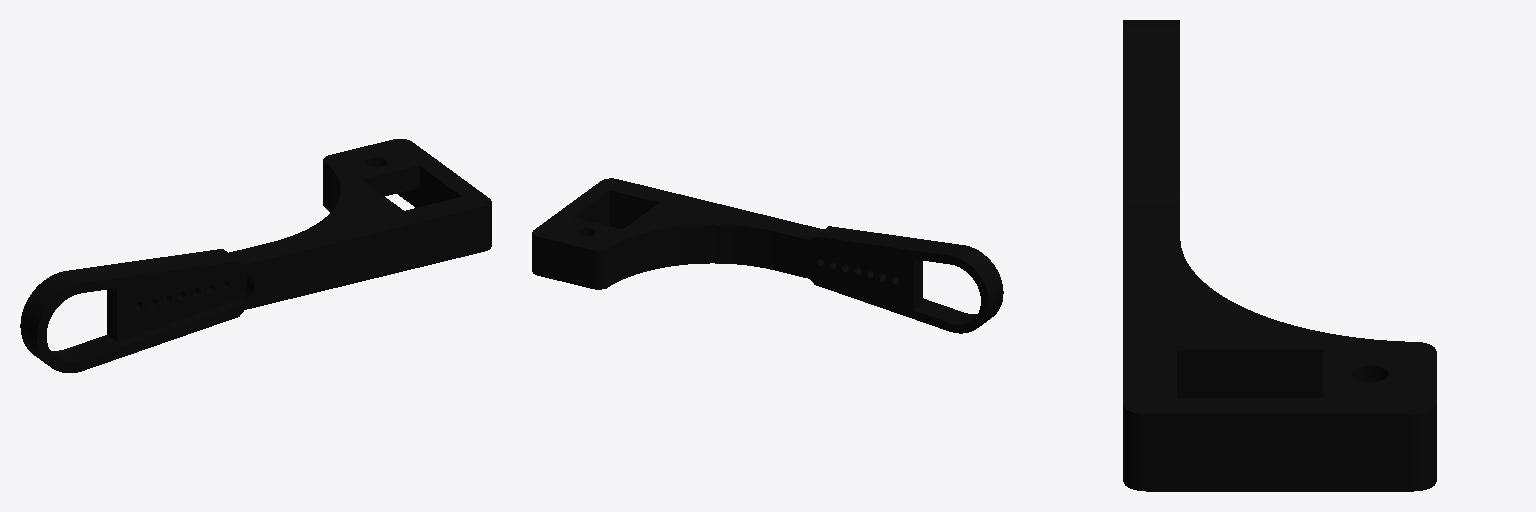
URDF robot description (burger_gripper):
<?xml version="1.0" encoding="utf-8" ?>
<robot name="burger_gripper">
    <!-- Init colour -->
    <material name="black">
        <color rgba="0.0 0.0 0.0 1.0" />
    </material>
    <material name="dark">
        <color rgba="0.3 0.3 0.3 1.0" />
    </material>
    <material name="light_black">
        <color rgba="0.4 0.4 0.4 1.0" />
    </material>
    <material name="blue">
        <color rgba="0.0 0.0 0.8 1.0" />
    </material>
    <material name="green">
        <color rgba="0.0 0.8 0.0 1.0" />
    </material>
    <material name="grey">
        <color rgba="0.5 0.5 0.5 1.0" />
    </material>
    <material name="orange">
        <color rgba="1.0 0.423529411765 0.0392156862745 1.0" />
    </material>
    <material name="brown">
        <color rgba="0.870588235294 0.811764705882 0.764705882353 1.0" />
    </material>
    <material name="red">
        <color rgba="0.8 0.0 0.0 1.0" />
    </material>
    <material name="white">
        <color rgba="1.0 1.0 1.0 1.0" />
    </material>
    <gazebo reference="base_link">
        <material>Gazebo/DarkGrey</material>
    </gazebo>
    <gazebo reference="wheel_left_link">
        <mu1>0.1</mu1>
        <mu2>0.1</mu2>
        <kp>500000.0</kp>
        <kd>10.0</kd>
        <minDepth>0.001</minDepth>
        <maxVel>0.1</maxVel>
        <fdir1>1 0 0</fdir1>
        <material>Gazebo/FlatBlack</material>
    </gazebo>
    <gazebo reference="wheel_right_link">
        <mu1>0.1</mu1>
        <mu2>0.1</mu2>
        <kp>500000.0</kp>
        <kd>10.0</kd>
        <minDepth>0.001</minDepth>
        <maxVel>0.1</maxVel>
        <fdir1>1 0 0</fdir1>
        <material>Gazebo/FlatBlack</material>
    </gazebo>
    <gazebo reference="caster_back_link">
        <mu1>0.1</mu1>
        <mu2>0.1</mu2>
        <kp>1000000.0</kp>
        <kd>100.0</kd>
        <minDepth>0.001</minDepth>
        <maxVel>1.0</maxVel>
        <material>Gazebo/FlatBlack</material>
    </gazebo>
    <gazebo reference="imu_link">
        <sensor name="imu" type="imu">
            <always_on>true</always_on>
            <visualize>false</visualize>
        </sensor>
        <material>Gazebo/FlatBlack</material>
    </gazebo>
    <gazebo>
        <plugin filename="libgazebo_ros_diff_drive.so" name="turtlebot3_burger_controller">
            <commandTopic>cmd_vel</commandTopic>
            <odometryTopic>odom</odometryTopic>
            <odometryFrame>odom</odometryFrame>
            <odometrySource>world</odometrySource>
            <publishOdomTF>true</publishOdomTF>
            <robotBaseFrame>base_footprint</robotBaseFrame>
            <publishWheelTF>false</publishWheelTF>
            <publishTf>true</publishTf>
            <publishWheelJointState>true</publishWheelJointState>
            <legacyMode>false</legacyMode>
            <updateRate>30</updateRate>
            <leftJoint>wheel_left_joint</leftJoint>
            <rightJoint>wheel_right_joint</rightJoint>
            <wheelSeparation>0.160</wheelSeparation>
            <wheelDiameter>0.066</wheelDiameter>
            <wheelAcceleration>1</wheelAcceleration>
            <wheelTorque>10</wheelTorque>
            <rosDebugLevel>na</rosDebugLevel>
        </plugin>
    </gazebo>
    <gazebo>
        <plugin filename="libgazebo_ros_imu.so" name="imu_plugin">
            <alwaysOn>true</alwaysOn>
            <bodyName>imu_link</bodyName>
            <topicName>imu</topicName>
            <serviceName>imu_service</serviceName>
            <gaussianNoise>0.0</gaussianNoise>
            <updateRate>200</updateRate>
            <imu>
                <noise>
                    <type>gaussian</type>
                    <rate>
                        <mean>0.0</mean>
                        <stddev>2e-4</stddev>
                        <bias_mean>0.0000075</bias_mean>
                        <bias_stddev>0.0000008</bias_stddev>
                    </rate>
                    <accel>
                        <mean>0.0</mean>
                        <stddev>1.7e-2</stddev>
                        <bias_mean>0.1</bias_mean>
                        <bias_stddev>0.001</bias_stddev>
                    </accel>
                </noise>
            </imu>
        </plugin>
    </gazebo>
    <gazebo reference="base_scan">
        <material>Gazebo/FlatBlack</material>
        <sensor name="lds_lfcd_sensor" type="ray">
            <pose>0 0 0 0 0 0</pose>
            <visualize>false</visualize>
            <update_rate>5</update_rate>
            <ray>
                <scan>
                    <horizontal>
                        <samples>360</samples>
                        <resolution>1</resolution>
                        <min_angle>0.0</min_angle>
                        <max_angle>6.28319</max_angle>
                    </horizontal>
                </scan>
                <range>
                    <min>0.120</min>
                    <max>3.5</max>
                    <resolution>0.015</resolution>
                </range>
                <noise>
                    <type>gaussian</type>
                    <mean>0.0</mean>
                    <stddev>0.01</stddev>
                </noise>
            </ray>
            <plugin filename="libgazebo_ros_laser.so" name="gazebo_ros_lds_lfcd_controller">
                <topicName>scan</topicName>
                <frameName>base_scan</frameName>
            </plugin>
        </sensor>
    </gazebo>
    <!--bumper turtlebot3 insper-->
    <gazebo reference="bumper_link">
        <sensor name="contacts" type="contact">
            <contact>
                <collision>base_footprint_fixed_joint_lump__base_collision_collision_1</collision>
            </contact>
            <plugin filename="libgazebo_ros_bumper.so" name="gazebo_ros_bumper_controller">
                <always_on>true</always_on>
                <robotNamespace>/bumper</robotNamespace>
                <bumperTopicName>bumper_states</bumperTopicName>
                <frameName>bumper</frameName>
                <visualize>true</visualize>
                <update_rate>50.0</update_rate>
            </plugin>
        </sensor>
        <material>Gazebo/Green</material>
        <mu1>0.1</mu1>
        <mu2>0.1</mu2>
        <gravity>true</gravity>
        <selfCollide>false</selfCollide>
    </gazebo>
    <!--camera turtlebot3 insper-->
    <!--link : https://www.raspberrypi.org/documentation/hardware/camera/-->
    <gazebo reference="camera_rgb_frame">
        <sensor name="Pi Camera" type="camera">
            <always_on>true</always_on>
            <visualize>false</visualize>
            <camera>
                <horizontal_fov>1.085595</horizontal_fov>
                <image>
                    <width>320</width>
                    <height>240</height>
                    <format>R8G8B8</format>
                </image>
                <clip>
                    <near>0.03</near>
                    <far>100</far>
                </clip>
            </camera>
            <plugin filename="libgazebo_ros_camera.so" name="camera_controller">
                <alwaysOn>true</alwaysOn>
                <updateRate>30.0</updateRate>
                <cameraName>camera</cameraName>
                <frameName>camera_rgb_optical_frame</frameName>
                <imageTopicName>image</imageTopicName>
                <cameraInfoTopicName>camera_info</cameraInfoTopicName>
                <hackBaseline>0.07</hackBaseline>
                <distortionK1>0.0</distortionK1>
                <distortionK2>0.0</distortionK2>
                <distortionK3>0.0</distortionK3>
                <distortionT1>0.0</distortionT1>
                <distortionT2>0.0</distortionT2>
            </plugin>
        </sensor>
    </gazebo>
    <link name="base_footprint" />
    <joint name="base_joint" type="fixed">
        <parent link="base_footprint" />
        <child link="base_link" />
        <origin rpy="0 0 0" xyz="0.0 0.0 0.010" />
    </joint>
    <link name="base_link">
        <visual>
            <origin rpy="0 0 0" xyz="-0.032 0 0.0" />
            <geometry>
                <mesh filename="package://burger_gripper/meshes/bases/burger_base.stl" scale="0.001 0.001 0.001" />
            </geometry>
            <material name="light_black" />
        </visual>
        <collision>
            <origin rpy="0 0 0" xyz="-0.032 0 0.070" />
            <geometry>
                <box size="0.140 0.140 0.143" />
            </geometry>
        </collision>
        
<inertial>
            <origin rpy="0 0 0" xyz="0 0 0" />
            <mass value="8.2573504e-01" />
            <inertia ixx="2.2124416e-03" ixy="-1.2294101e-05" ixz="3.4938785e-05" iyy="2.1193702e-03" iyz="-5.0120904e-06" izz="2.0064271e-03" />
        </inertial>

    </link>
    <joint name="wheel_left_joint" type="continuous">
        <parent link="base_link" />
        <child link="wheel_left_link" />
        <origin rpy="-1.57 0 0" xyz="0.0 0.08 0.023" />
        <axis xyz="0 0 1" />
    </joint>
    <link name="wheel_left_link">
        <visual>
            <origin rpy="1.57 0 0" xyz="0 0 0" />
            <geometry>
                <mesh filename="package://burger_gripper/meshes/wheels/left_tire.stl" scale="0.001 0.001 0.001" />
            </geometry>
            <material name="dark" />
        </visual>
        <collision>
            <origin rpy="0 0 0" xyz="0 0 0" />
            <geometry>
                <cylinder length="0.018" radius="0.033" />
            </geometry>
        </collision>
        
<inertial>
            <origin xyz="0 0 0" />
            <mass value="2.8498940e-02" />
            <inertia ixx="1.1175580e-05" ixy="-4.2369783e-11" ixz="-5.9381719e-09" iyy="1.1192413e-05" iyz="-1.4400107e-11" izz="2.0712558e-05" />
        </inertial>

    </link>
    <joint name="wheel_right_joint" type="continuous">
        <parent link="base_link" />
        <child link="wheel_right_link" />
        <origin rpy="-1.57 0 0" xyz="0.0 -0.080 0.023" />
        <axis xyz="0 0 1" />
    </joint>
    <link name="wheel_right_link">
        <visual>
            <origin rpy="1.57 0 0" xyz="0 0 0" />
            <geometry>
                <mesh filename="package://burger_gripper/meshes/wheels/right_tire.stl" scale="0.001 0.001 0.001" />
            </geometry>
            <material name="dark" />
        </visual>
        <collision>
            <origin rpy="0 0 0" xyz="0 0 0" />
            <geometry>
                <cylinder length="0.018" radius="0.033" />
            </geometry>
        </collision>
        
<inertial>
            <origin xyz="0 0 0" />
            <mass value="2.8498940e-02" />
            <inertia ixx="1.1175580e-05" ixy="-4.2369783e-11" ixz="-5.9381719e-09" iyy="1.1192413e-05" iyz="-1.4400107e-11" izz="2.0712558e-05" />
        </inertial>

    </link>
    <joint name="caster_back_joint" type="fixed">
        <parent link="base_link" />
        <child link="caster_back_link" />
        <origin rpy="-1.57 0 0" xyz="-0.081 0 -0.004" />
    </joint>
    <link name="caster_back_link">
        <collision>
            <origin rpy="0 0 0" xyz="0 0.001 0" />
            <geometry>
                <box size="0.030 0.009 0.020" />
            </geometry>
        </collision>
        
<inertial>
            <origin xyz="0 0 0" />
            <mass value="0.005" />
            <inertia ixx="0.001" ixy="0.0" ixz="0.0" iyy="0.001" iyz="0.0" izz="0.001" />
        </inertial>

    </link>
    <joint name="imu_joint" type="fixed">
        <parent link="base_link" />
        <child link="imu_link" />
        <origin rpy="0 0 0" xyz="-0.032 0 0.068" />
    </joint>
    <link name="imu_link" />
    <joint name="scan_joint" type="fixed">
        <parent link="base_link" />
        <child link="base_scan" />
        <origin rpy="0 0 0" xyz="-0.032 0 0.172" />
    </joint>
    <link name="base_scan">
        <visual>
            <origin rpy="0 0 0" xyz="0 0 0.0" />
            <geometry>
                <mesh filename="package://burger_gripper/meshes/sensors/lds.stl" scale="0.001 0.001 0.001" />
            </geometry>
            <material name="dark" />
        </visual>
        <collision>
            <origin rpy="0 0 0" xyz="0.015 0 -0.0065" />
            <geometry>
                <cylinder length="0.0315" radius="0.055" />
            </geometry>
        </collision>
        
<inertial>
            <mass value="0.114" />
            <origin xyz="0 0 0" />
            <inertia ixx="0.001" ixy="0.0" ixz="0.0" iyy="0.001" iyz="0.0" izz="0.001" />
        </inertial>

    </link>
    <joint name="camera_joint" type="fixed">
        <origin rpy="0 0.174 0" xyz="0.040 -0.011 0.130" />
        <parent link="base_link" />
        <child link="camera_link" />
    </joint>
    <link name="camera_link">
        <collision>
            <origin rpy="0 0 0" xyz="0.005 0.011 0.013" />
            <geometry>
                <box size="0.015 0.030 0.027" />
            </geometry>
        </collision>
        
<inertial>
            <mass value="0.1" />
            <inertia ixx="0.03" iyy="0.03" izz="0.03" ixy="0.0" ixz="0.0" iyz="0.0" />
        </inertial>

    </link>
    <joint name="camera_rgb_joint" type="fixed">
        <origin rpy="0 0 0" xyz="0.003 0.011 0.009" />
        <parent link="camera_link" />
        <child link="camera_rgb_frame" />
    </joint>
    <link name="camera_rgb_frame" />
    <joint name="camera_rgb_optical_joint" type="fixed">
        <origin rpy="-1.57 0 -1.57" xyz="0 0 0" />
        <parent link="camera_rgb_frame" />
        <child link="camera_rgb_optical_frame" />
    </joint>
    <link name="camera_rgb_optical_frame" />
    <joint name="gripper_extension" type="revolute">
        <axis xyz="0 1 0" />
        <limit effort="1000.0" lower="-1" upper="1" velocity="0.5" />
        <parent link="base_link" />
        <child link="gripper_pole" />
        <limit effort="1000.0" lower="-0.38" upper="0" velocity="0.5" />
        <origin rpy="0 0 0 " xyz="0 0 0" />
    </joint>
    <link name="gripper_pole">
        <visual>
            <geometry>
                <mesh filename="package://burger_gripper/meshes/sensors/arm.dae" />
            </geometry>
            <origin rpy="0 0 0 " xyz="0 0 0" />
        </visual>
        <collision>
            <geometry>
                <cylinder length="0.01" radius="0.01" />
            </geometry>
            <origin rpy="0 0 0 " xyz="0.09 0 0" />
        </collision>
        
<inertial>
            <mass value="0.00125" />
            <inertia ixx="1.0" ixy="0.0" ixz="0.0" iyy="1.0" iyz="0.0" izz="1.0" />
        </inertial>

    </link>
    <transmission name="gripper_extension_trans" type="SimpleTransmission">
        <type>transmission_interface/SimpleTransmission</type>
        <actuator name="gripper_extension_motor">
            <mechanicalReduction>1</mechanicalReduction>
        </actuator>
        <joint name="gripper_extension">
            <hardwareInterface>hardwareInterface/PositionJointInterface</hardwareInterface>
        </joint>
    </transmission>
    <joint name="left_gripper_joint" type="revolute">
        <axis xyz="0 0 1" />
        <limit effort="1000.0" lower="0.0" upper="0.548" velocity="0.5" />
        <origin rpy="0 0 0 " xyz="0 0 0" />
        <parent link="gripper_pole" />
        <child link="left_gripper" />
    </joint>
    <link name="left_gripper">
        <visual>
            <origin rpy="0 0 0" xyz="0 0 0" />
            <geometry>
                <mesh filename="package://burger_gripper/meshes/sensors/esquerda.dae" />
            </geometry>
        </visual>
        <collision>
            <geometry>
                <mesh filename="package://burger_gripper/meshes/sensors/esquerda.dae" />
            </geometry>
            <origin rpy="0 0 0 " xyz="0 0 0" />
        </collision>
        
<inertial>
            <mass value="0.000625" />
            <inertia ixx="1.0" ixy="0.0" ixz="0.0" iyy="1.0" iyz="0.0" izz="1.0" />
        </inertial>

    </link>
    <transmission name="left_gripper_trans">
        <type>transmission_interface/SimpleTransmission</type>
        <actuator name="left_gripper_motor">
            <mechanicalReduction>1</mechanicalReduction>
        </actuator>
        <joint name="left_gripper_joint">
            <hardwareInterface>hardwareInterface/PositionJointInterface</hardwareInterface>
        </joint>
    </transmission>
    <joint name="right_gripper_joint" type="revolute">
        <axis xyz="0 0 -1" />
        <limit effort="1000.0" lower="0.0" upper="0.548" velocity="0.5" />
        <origin rpy="0 0 0 " xyz="0 0 0" />
        <parent link="gripper_pole" />
        <child link="right_gripper" />
    </joint>
    <link name="right_gripper">
        <visual>
            <origin rpy="0 0 0 " xyz="0 0 0" />
            <geometry>
                <mesh filename="package://burger_gripper/meshes/sensors/direita.dae" />
            </geometry>
        </visual>
        <collision>
            <geometry>
                <mesh filename="package://burger_gripper/meshes/sensors/direita.dae" />
            </geometry>
            <origin rpy="0 0 0 " xyz="0 0 0" />
        </collision>
        
<inertial>
            <mass value="0.000625" />
            <inertia ixx="1.0" ixy="0.0" ixz="0.0" iyy="1.0" iyz="0.0" izz="1.0" />
        </inertial>

    </link>
    <transmission name="right_gripper_trans">
        <type>transmission_interface/SimpleTransmission</type>
        <actuator name="right_gripper_motor">
            <mechanicalReduction>1</mechanicalReduction>
        </actuator>
        <joint name="right_gripper_joint">
            <hardwareInterface>hardwareInterface/PositionJointInterface</hardwareInterface>
        </joint>
    </transmission>
    <gazebo>
        <plugin filename="libgazebo_ros_control.so" name="gazebo_ros_control">
            <robotNamespace>/</robotNamespace>
        </plugin>
    </gazebo>
    <transmission name="trans_wheel_left_joint">
        <type>transmission_interface/SimpleTransmission</type>
        <joint name="wheel_left_joint">
            <hardwareInterface>hardware_interface/EffortJointInterface</hardwareInterface>
        </joint>
        <actuator name="wheel_left_joint_motor">
            <hardwareInterface>hardware_interface/EffortJointInterface</hardwareInterface>
            <mechanicalReduction>1</mechanicalReduction>
        </actuator>
    </transmission>
    <transmission name="trans_wheel_right_joint">
        <type>transmission_interface/SimpleTransmission</type>
        <joint name="wheel_right_joint">
            <hardwareInterface>hardware_interface/EffortJointInterface</hardwareInterface>
        </joint>
        <actuator name="wheel_right_joint_motor">
            <hardwareInterface>hardware_interface/EffortJointInterface</hardwareInterface>
            <mechanicalReduction>1</mechanicalReduction>
        </actuator>
    </transmission>
    <transmission name="trans_gripper_extension">
        <type>transmission_interface/SimpleTransmission</type>
        <joint name="gripper_extension">
            <hardwareInterface>hardware_interface/EffortJointInterface</hardwareInterface>
        </joint>
        <actuator name="gripper_extension_motor">
            <hardwareInterface>hardware_interface/EffortJointInterface</hardwareInterface>
            <mechanicalReduction>1</mechanicalReduction>
        </actuator>
    </transmission>
    <transmission name="trans_left_gripper_joint">
        <type>transmission_interface/SimpleTransmission</type>
        <joint name="left_gripper_joint">
            <hardwareInterface>hardware_interface/EffortJointInterface</hardwareInterface>
        </joint>
        <actuator name="left_gripper_joint_motor">
            <hardwareInterface>hardware_interface/EffortJointInterface</hardwareInterface>
            <mechanicalReduction>1</mechanicalReduction>
        </actuator>
    </transmission>
    <transmission name="trans_right_gripper_joint">
        <type>transmission_interface/SimpleTransmission</type>
        <joint name="right_gripper_joint">
            <hardwareInterface>hardware_interface/EffortJointInterface</hardwareInterface>
        </joint>
        <actuator name="right_gripper_joint_motor">
            <hardwareInterface>hardware_interface/EffortJointInterface</hardwareInterface>
            <mechanicalReduction>1</mechanicalReduction>
        </actuator>
    </transmission>
    <gazebo>
        <plugin name="gazebo_ros_control" filename="libgazebo_ros_control.so">
            <robotNamespace>/</robotNamespace>
        </plugin>
    </gazebo>


</robot>

--- Render facts (derived) ---
The picture shows the robot from 3 angles, left to right: view 1: azimuth 30°, elevation 25°; view 2: azimuth 150°, elevation 25°; view 3: azimuth 270°, elevation 25°; orthographic projection.
Robot: burger_gripper — 13 links, 12 joints (3 revolute, 2 continuous, 7 fixed); root link base_footprint; default pose: every joint at zero.
Links seen in each view (by area): view 1: gripper_pole; view 2: gripper_pole; view 3: gripper_pole.
Boxes of the visible links, bbox=[...] form: gripper_pole: bbox=[20, 139, 491, 372]; gripper_pole: bbox=[532, 178, 1003, 333]; gripper_pole: bbox=[1123, 20, 1436, 491].
Bounding box of the posed robot: 0.1149 × 0.0396 × 0.0211 m (x, y, z).
1 mesh visuals loaded from 7 distinct referenced files (1 Collada DAE); not drawn: 6 (reference not matched to a file when rendering).